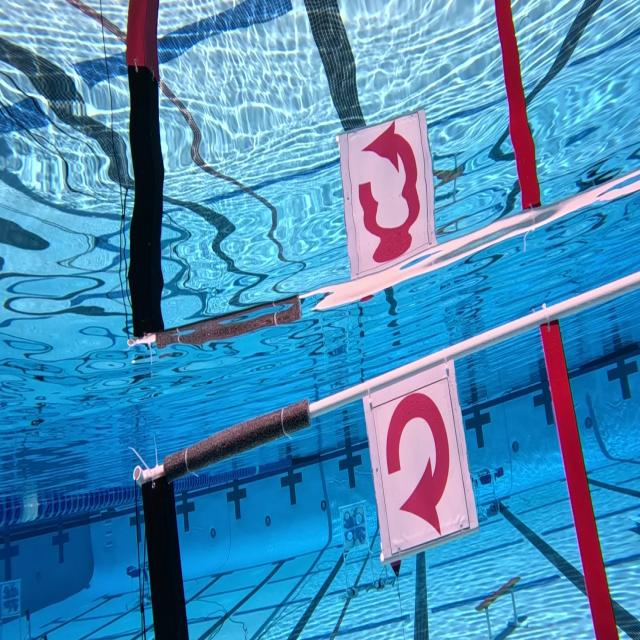red_side: (365, 392, 465, 541)
